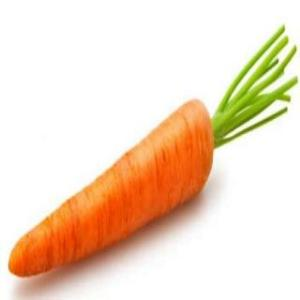carrot: (7, 94, 218, 284)
